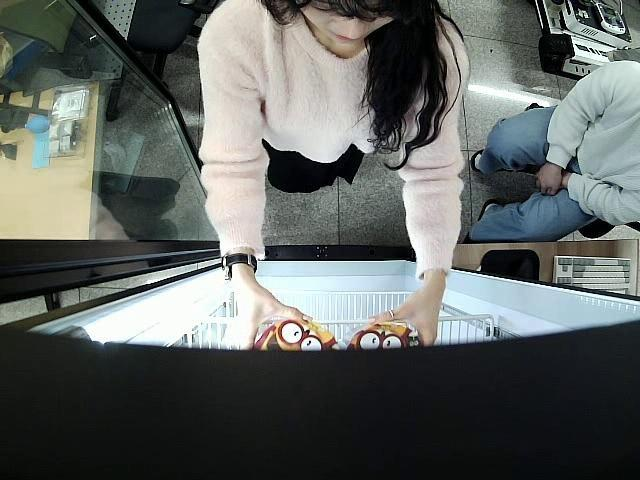05_nuguri_L: (252, 314, 342, 355), (343, 319, 428, 355)
